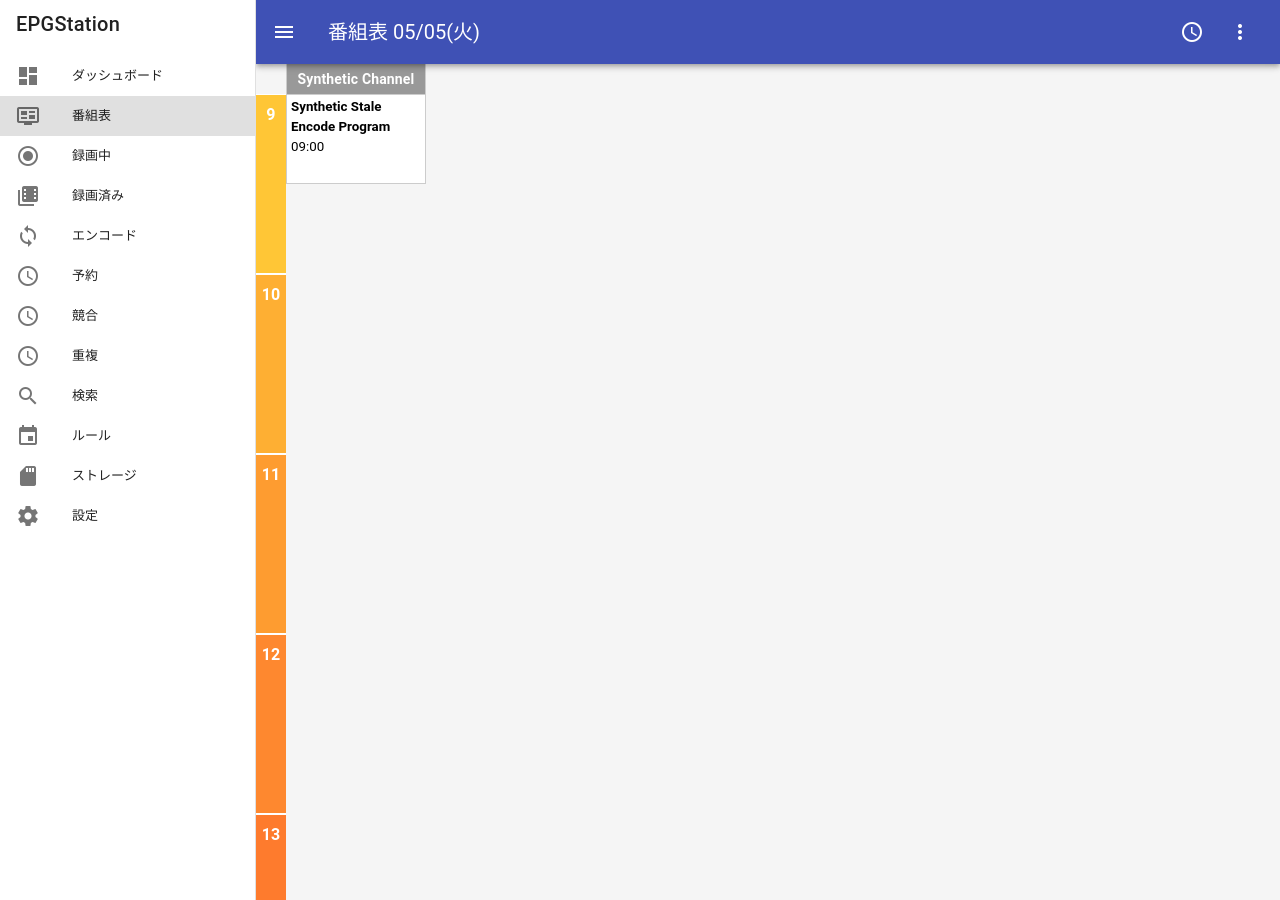
Test: Guide route and fetch lifecycle › [AC 4.22] keeps a saved encode value selectable even after it is removed from server config
Click the button with test id "guide-program-701".
click(356, 139)  # box [286,94,426,184]
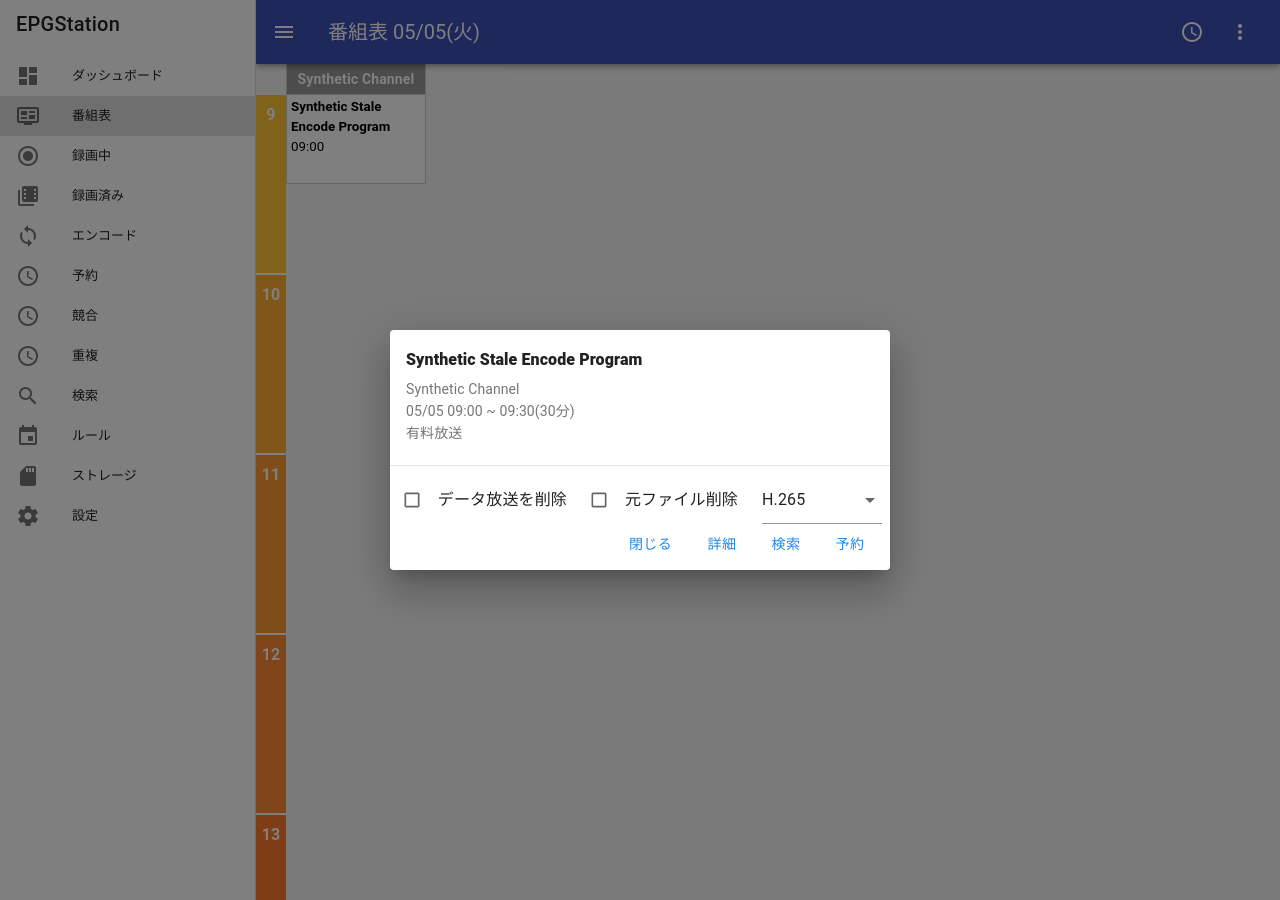
Check: the dropdown named "エンコード" reads "H.265"
Press the mouse on the dropdown named "エンコード" at coordinates (784, 500), box [762,490,805,509]
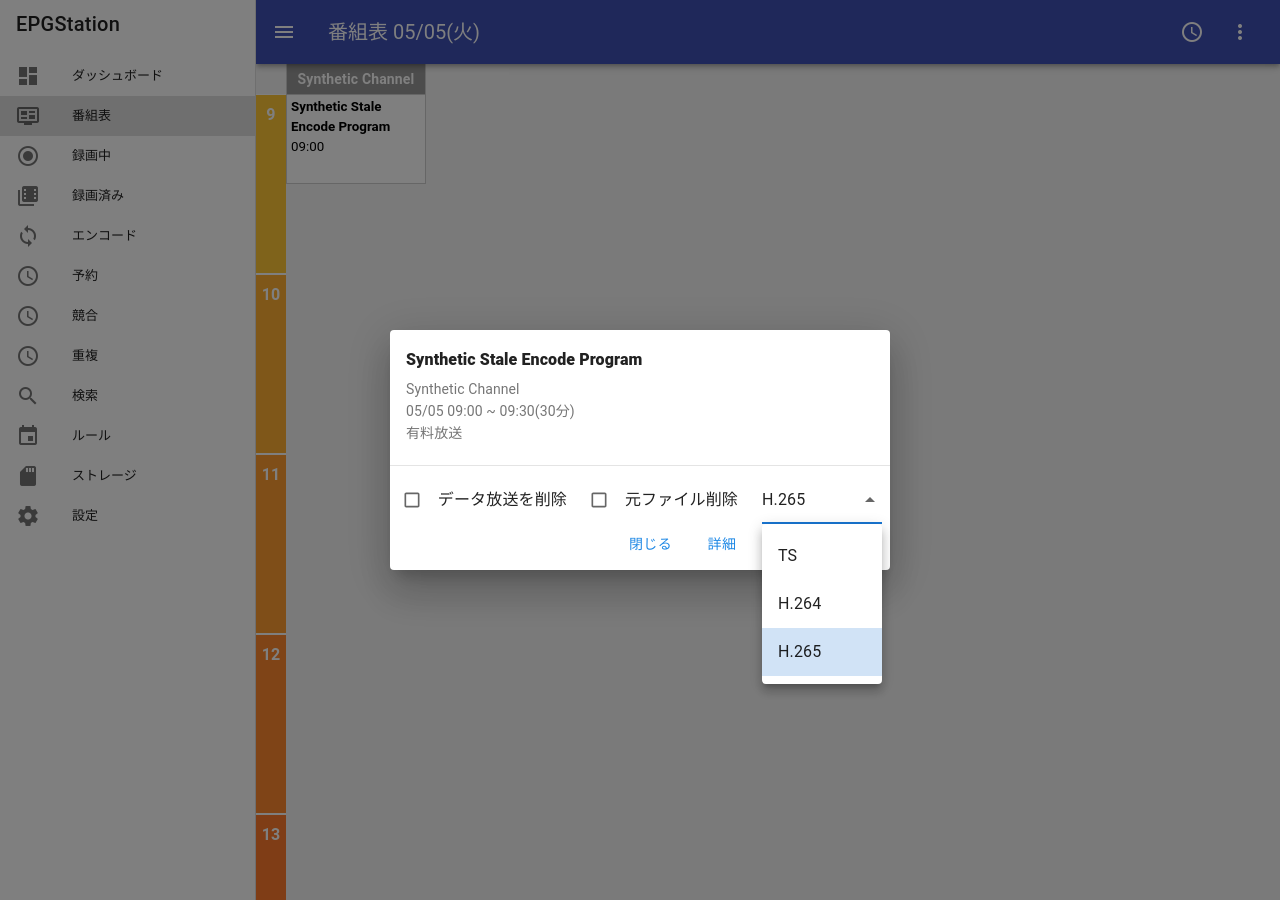
Check: the option "H.265" is shown, box [762,628,882,676]
Check: the option "TS" is shown, box [778,546,797,565]
Check: the option "H.264" is shown, box [778,594,821,613]
